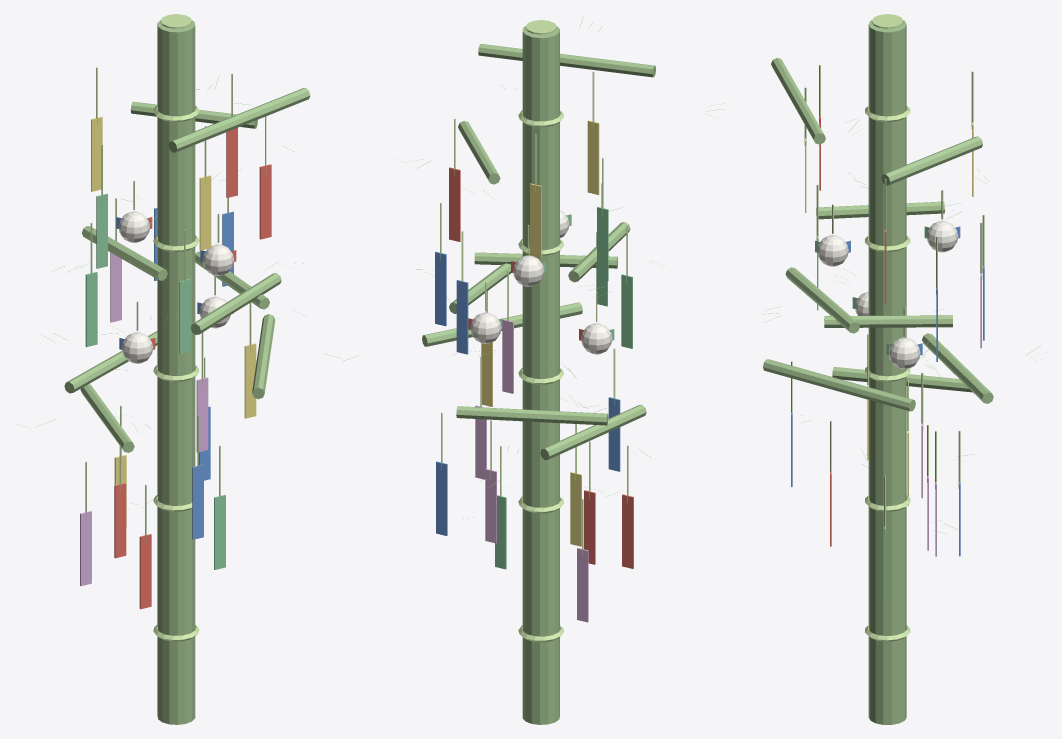
File: sasa_tanabata.glb
The picture shows the model from 3 angles, left to right: view 1: azimuth 30°, elevation 25°; view 2: azimuth 150°, elevation 25°; view 3: azimuth 270°, elevation 25°; orthographic projection.
Visible parts, largest first — view 1: sasa_tanabata; view 2: sasa_tanabata; view 3: sasa_tanabata.
Part boxes in pixels (x1=…): sasa_tanabata: x1=16, y1=14, x2=358, y2=724; sasa_tanabata: x1=398, y1=14, x2=660, y2=724; sasa_tanabata: x1=705, y1=14, x2=1040, y2=724.
Bounding box in the file's own units: 1.03 × 2.41 × 1.09.
